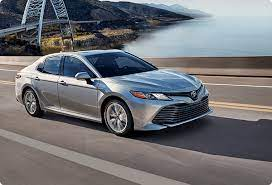Toyota: (20, 55, 209, 124)
